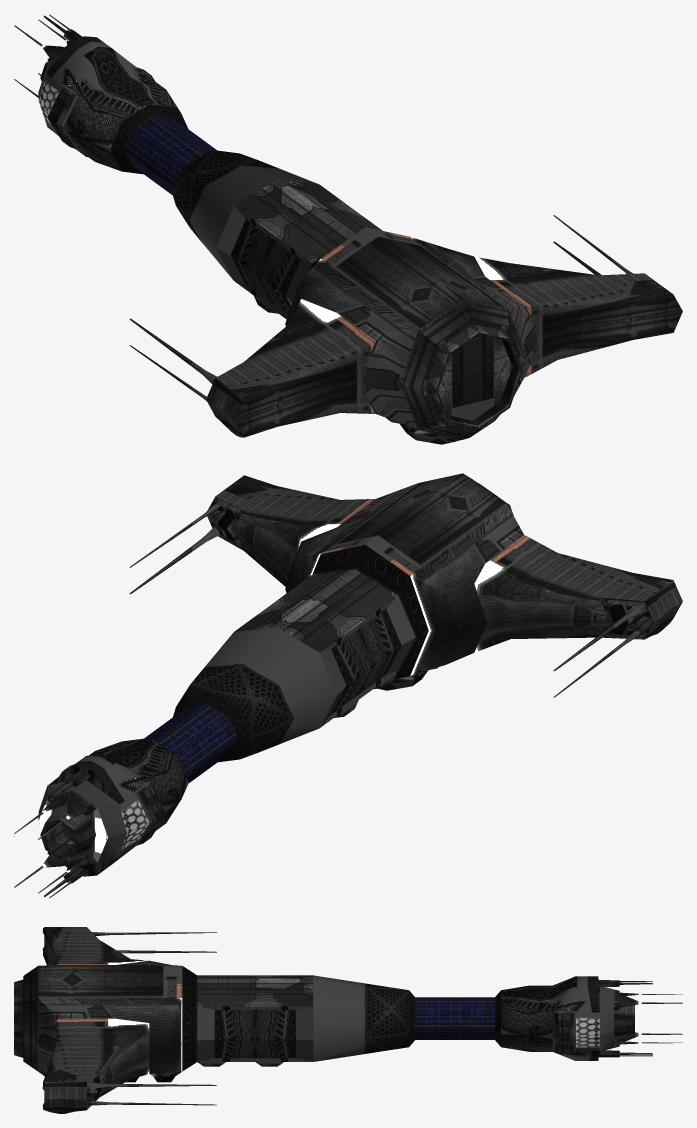
File: ts2_modb.fbx
The picture shows the model from 3 angles, top to bottom: view 1: azimuth 30°, elevation 25°; view 2: azimuth 150°, elevation 25°; view 3: azimuth 270°, elevation 25°; orthographic projection. The views are drawn at different scales.
Visible parts, largest first — view 1: 00_Core, 04_Engine, 01_Nose, 02_WingLeft, 03_WingRight; view 2: 00_Core, 01_Nose, 02_WingLeft, 03_WingRight, 04_Engine; view 3: 00_Core, 01_Nose, 03_WingRight, 04_Engine, 02_WingLeft.
Boxes of the visible parts, bbox=[...] form: 00_Core: bbox=[172, 150, 507, 423]; 04_Engine: bbox=[361, 290, 536, 444]; 01_Nose: bbox=[14, 14, 216, 195]; 02_WingLeft: bbox=[129, 299, 375, 437]; 03_WingRight: bbox=[474, 215, 682, 377]; 00_Core: bbox=[173, 473, 508, 762]; 01_Nose: bbox=[14, 704, 236, 898]; 02_WingLeft: bbox=[474, 535, 682, 697]; 03_WingRight: bbox=[129, 475, 375, 594]; 04_Engine: bbox=[361, 473, 523, 546]; 00_Core: bbox=[38, 960, 415, 1082]; 01_Nose: bbox=[415, 976, 682, 1060]; 03_WingRight: bbox=[42, 1018, 216, 1113]; 04_Engine: bbox=[14, 965, 79, 1076]; 02_WingLeft: bbox=[42, 927, 216, 965].
Bounding box in the file's own units: 23593 × 7455 × 41287.
1 material, 1 textured.
